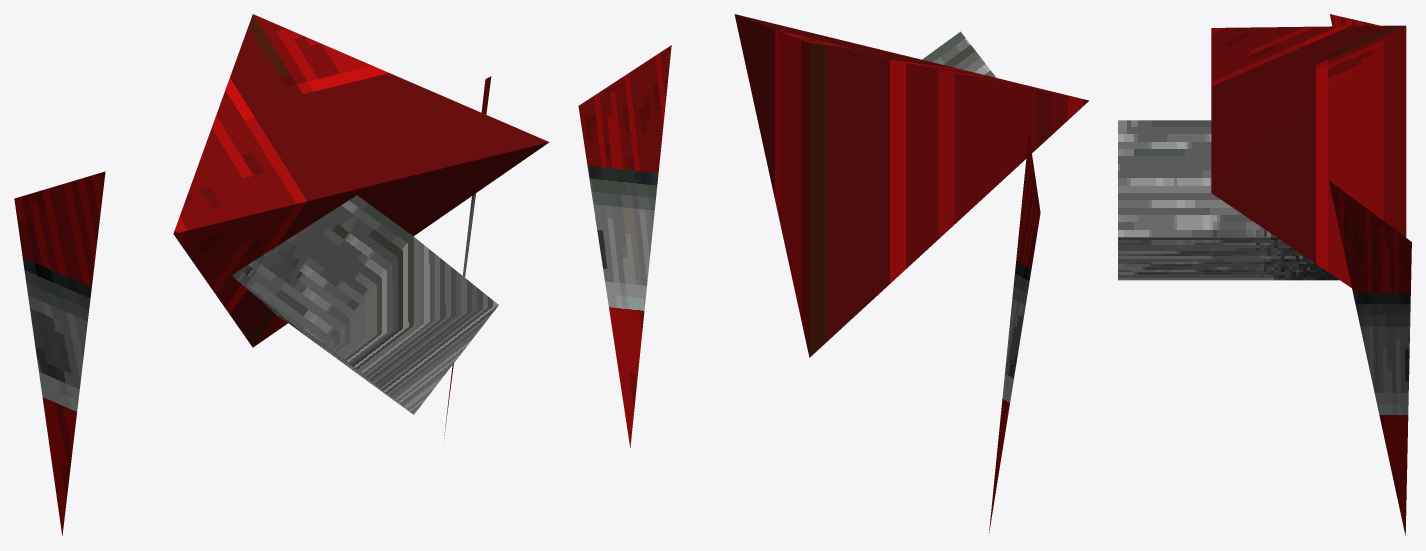
The model's file is model_024_robot_noname.glb.
3 views of the same model, side by side, from view 1: azimuth 30°, elevation 25°; view 2: azimuth 150°, elevation 25°; view 3: azimuth 270°, elevation 25° (orthographic). The views are drawn at different scales.
Visible parts, largest first — view 1: model_024; view 2: model_024; view 3: model_024.
Boxes of the visible parts, box(x1,y1,x2,y2) form: model_024: box(14, 14, 549, 535); model_024: box(578, 14, 1088, 535); model_024: box(1118, 14, 1411, 535).
Bounding box in the file's own units: 5 × 4.71 × 2.93.
Materials: 3 (3 with a texture image).
